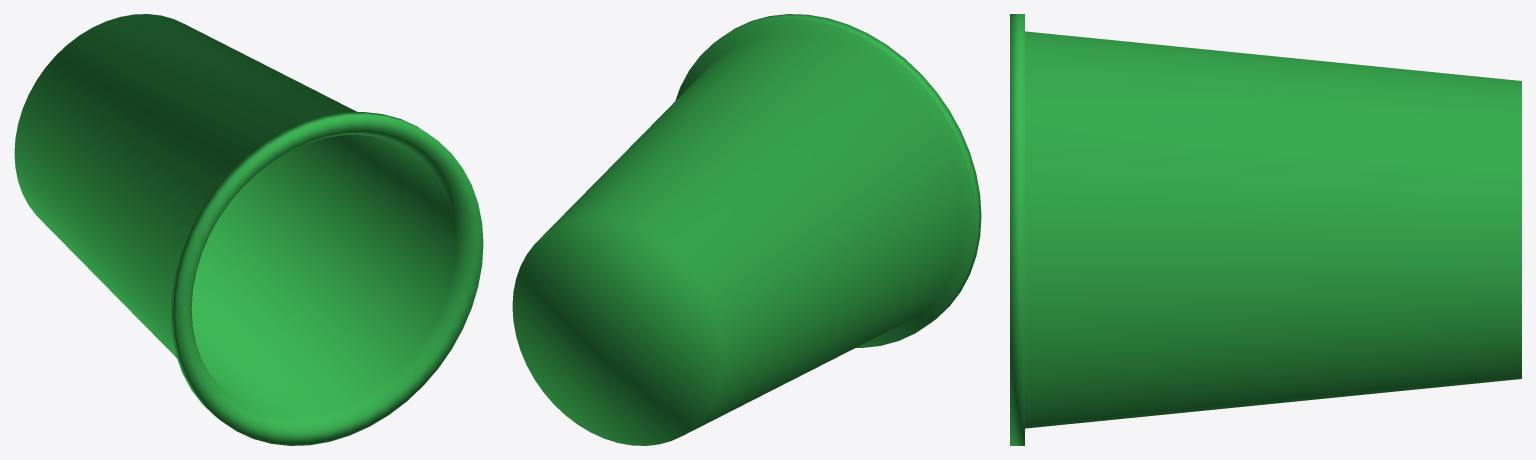
File: Cup_Green.obj
The picture shows the model from 3 angles, left to right: view 1: azimuth 30°, elevation 25°; view 2: azimuth 150°, elevation 25°; view 3: azimuth 270°, elevation 25°; orthographic projection. The views are drawn at different scales.
Visible parts, largest first — view 1: Cup_Green; view 2: Cup_Green; view 3: Cup_Green.
Part boxes in pixels (<box>): Cup_Green: <box>14,14,483,445</box>; Cup_Green: <box>512,14,981,445</box>; Cup_Green: <box>1010,14,1521,445</box>.
Bounding box in the file's own units: 0.087 × 0.087 × 0.103.
